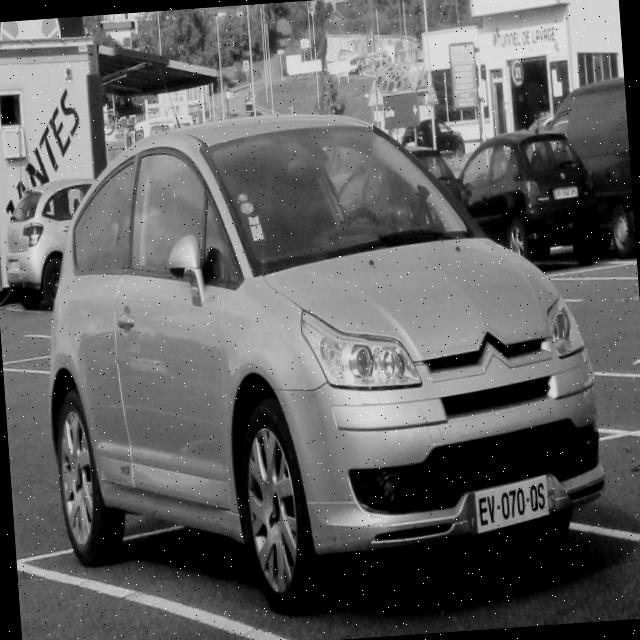EU: (467, 473, 556, 534)
France: (466, 494, 478, 534)
